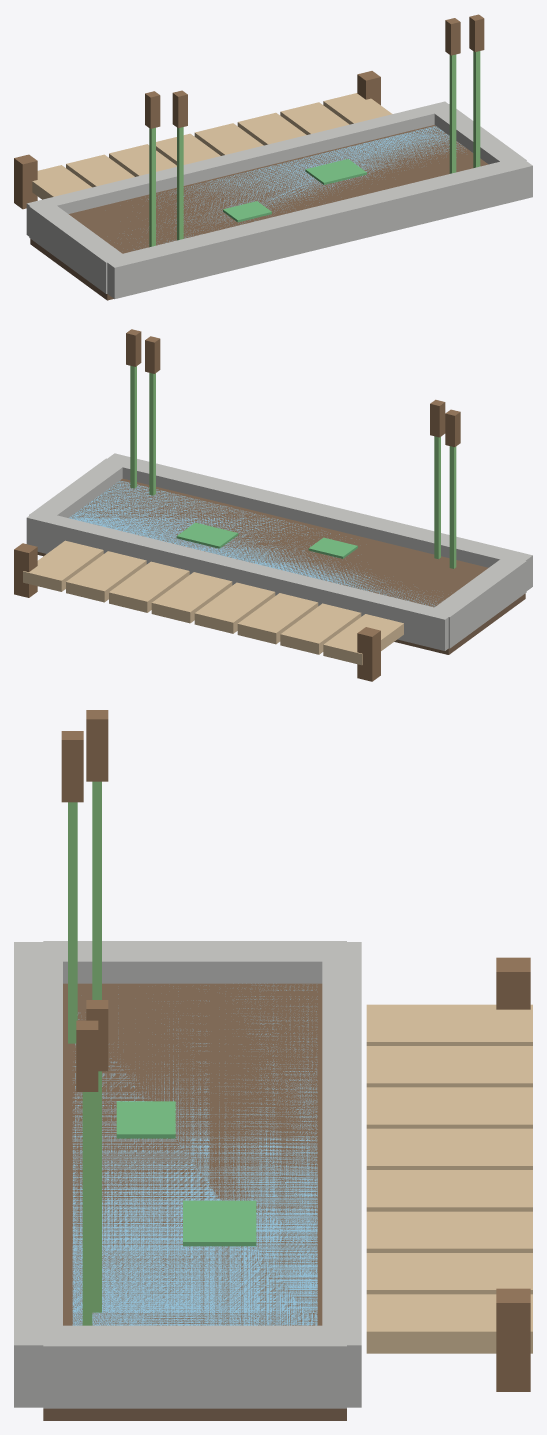
File: fishing_spot.glb
3 renders of one model, top to bottom at view 1: azimuth 30°, elevation 25°; view 2: azimuth 150°, elevation 25°; view 3: azimuth 270°, elevation 25°, orthographic. The views are drawn at different scales.
Visible parts, largest first — view 1: fishing_spot; view 2: fishing_spot; view 3: fishing_spot.
Boxes of the visible parts, x1,y1,x2,y2 form: fishing_spot: (14,14,532,300); fishing_spot: (14,329,532,681); fishing_spot: (14,710,532,1420).
Bounding box in the file's own units: 1.96 × 0.81 × 1.06.
